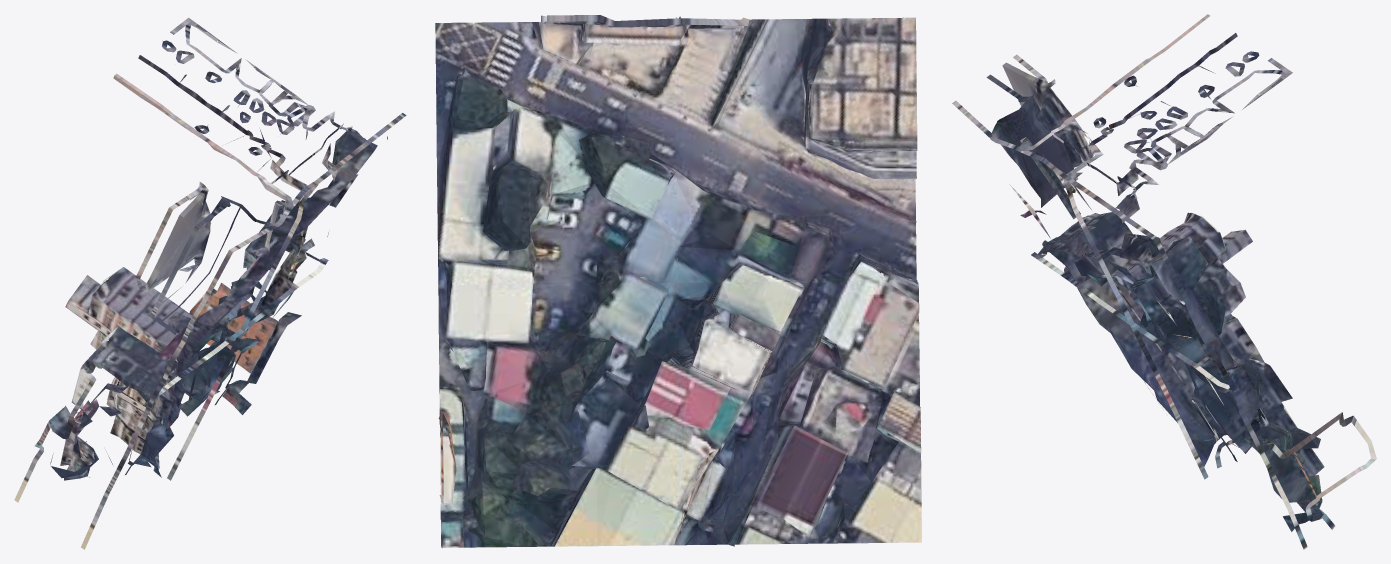
The picture shows the model from 3 angles, left to right: view 1: azimuth 30°, elevation 25°; view 2: azimuth 150°, elevation 25°; view 3: azimuth 270°, elevation 25°; orthographic projection. The views are drawn at different scales.
Size of the model in its own units: 83.54 by 88.09 by 76.65.
Materials: 1 (1 with a texture image).
